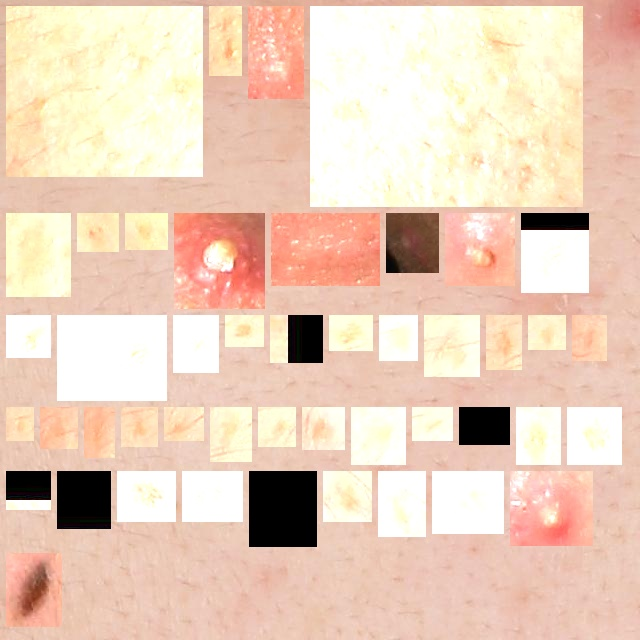hypertrophic_scar: (279, 221, 372, 278)
melasma: (318, 14, 575, 199), (14, 14, 195, 169), (65, 323, 159, 393), (14, 221, 63, 289), (529, 221, 581, 285), (257, 479, 309, 539), (440, 479, 496, 526), (432, 323, 472, 369), (359, 415, 398, 457), (575, 415, 614, 457), (386, 479, 418, 529), (65, 479, 103, 521), (190, 479, 235, 514), (125, 479, 168, 514), (181, 323, 211, 365), (524, 415, 553, 457), (278, 323, 315, 355), (331, 479, 364, 514), (218, 415, 244, 454), (217, 14, 234, 68), (14, 323, 43, 350), (494, 323, 514, 362), (467, 415, 502, 437), (310, 415, 337, 442), (387, 323, 410, 353), (14, 479, 43, 502), (85, 221, 111, 244), (48, 415, 70, 441), (580, 323, 599, 353), (133, 221, 160, 242), (337, 323, 365, 343), (266, 415, 288, 439), (92, 415, 107, 450), (129, 415, 150, 439), (420, 415, 445, 433), (172, 415, 196, 433), (536, 323, 558, 342), (233, 323, 256, 339), (14, 415, 26, 433)
nevus: (14, 561, 54, 619)
pustule: (182, 221, 257, 301), (518, 479, 585, 538), (256, 14, 296, 91), (453, 221, 507, 278), (394, 221, 431, 265)
